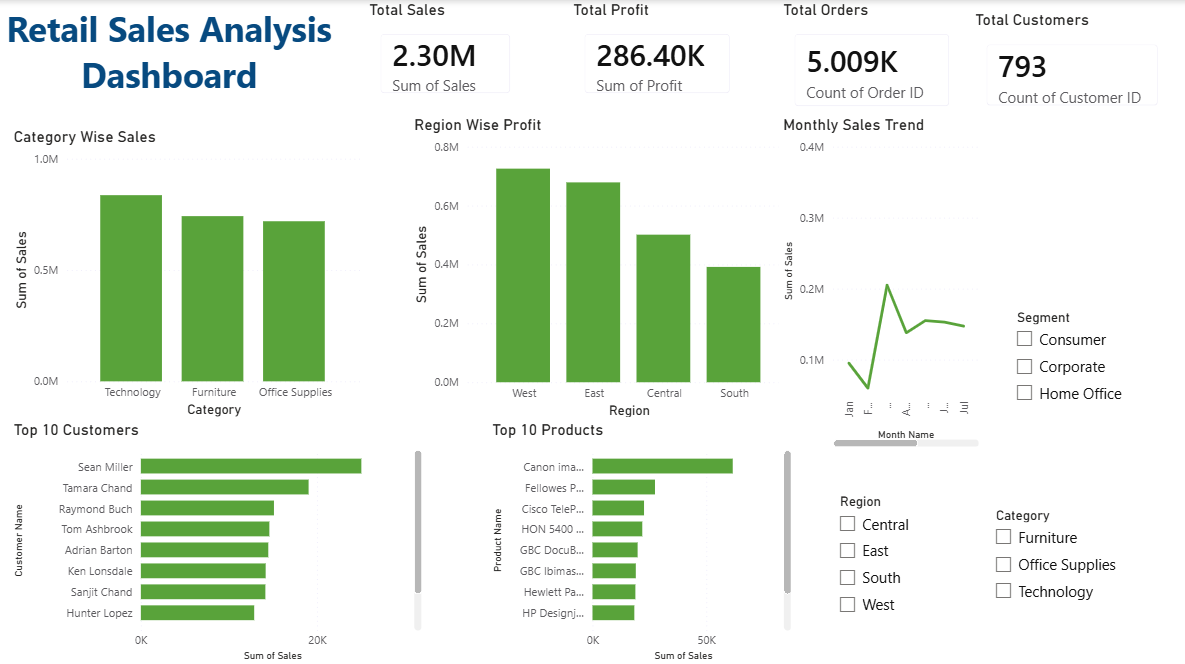

The dashboard page shown, as its layout file describes it:
{"tool":"powerbi","page":{"name":"Page 1","canvas":[1280,720],"ordinal":0},"visuals":[{"type":"cardVisual","title":"Total Profit","fields":{"Data":["Sum(cleaned_superstore.Profit)"]},"box":[613.5,0,191.2,117.5],"z":0},{"type":"cardVisual","title":"Total Sales","fields":{"Data":["Sum(cleaned_superstore.Sales)"]},"box":[393.5,0,174.9,118.2],"z":1000},{"type":"cardVisual","title":"Total Orders","fields":{"Data":["Count(cleaned_superstore.Order ID)"]},"box":[840.5,0,201.2,131.5],"z":2000},{"type":"cardVisual","title":"Total Customers","fields":{"Data":["Count(cleaned_superstore.Customer ID)"]},"box":[1047.7,12,219.1,119.5],"z":3000},{"type":"clusteredColumnChart","title":"Category Wise Sales","fields":{"Category":["cleaned_superstore.Category"],"Y":["Sum(cleaned_superstore.Sales)"]},"box":[10,137.4,384.4,316.7],"z":4000},{"type":"clusteredColumnChart","title":"Region Wise Profit","fields":{"Category":["cleaned_superstore.Region"],"Y":["Sum(cleaned_superstore.Sales)"]},"box":[442.2,125.5,416.3,330.6],"z":5000},{"type":"lineChart","title":"Monthly Sales Trend","fields":{"Category":["cleaned_superstore.Month Name"],"Y":["Sum(cleaned_superstore.Sales)"]},"box":[840.5,125.5,221.1,362.5],"z":6000},{"type":"clusteredBarChart","title":"Top 10 Customers","fields":{"Category":["cleaned_superstore.Customer Name"],"Y":["Sum(cleaned_superstore.Sales)"]},"box":[10,454.1,450.1,264.9],"z":7000},{"type":"clusteredBarChart","title":"Top 10 Products","fields":{"Category":["cleaned_superstore.Product Name"],"Y":["Sum(cleaned_superstore.Sales)"]},"box":[525.8,454.1,332.6,264.9],"z":8000},{"type":"slicer","fields":{"Values":["cleaned_superstore.Region"]},"box":[894.3,527.8,153.4,191.2],"z":9000},{"type":"slicer","fields":{"Values":["cleaned_superstore.Category"]},"box":[1061.6,541.8,219.1,177.3],"z":10000},{"type":"slicer","fields":{"Values":["cleaned_superstore.Segment"]},"box":[1085.5,328.6,195.2,199.2],"z":11000},{"type":"textbox","box":[0,0,365,118.3],"z":12000}]}

Visuals, with their boxes in screenshot pixels (x1, y1, x2, y2), scaled from the page's 1280x720 canvas onto the 1185x664 screenshot:
"Total Profit" cardVisual: x1=568, y1=0, x2=745, y2=108
"Total Sales" cardVisual: x1=364, y1=0, x2=526, y2=109
"Total Orders" cardVisual: x1=778, y1=0, x2=964, y2=121
"Total Customers" cardVisual: x1=970, y1=11, x2=1173, y2=121
"Category Wise Sales" clusteredColumnChart: x1=9, y1=127, x2=365, y2=419
"Region Wise Profit" clusteredColumnChart: x1=409, y1=116, x2=795, y2=421
"Monthly Sales Trend" lineChart: x1=778, y1=116, x2=983, y2=450
"Top 10 Customers" clusteredBarChart: x1=9, y1=419, x2=426, y2=663
"Top 10 Products" clusteredBarChart: x1=487, y1=419, x2=795, y2=663
slicer - cleaned_superstore.Region: x1=828, y1=487, x2=970, y2=663
slicer - cleaned_superstore.Category: x1=983, y1=500, x2=1184, y2=663
slicer - cleaned_superstore.Segment: x1=1005, y1=303, x2=1184, y2=487
textbox: x1=0, y1=0, x2=338, y2=109
